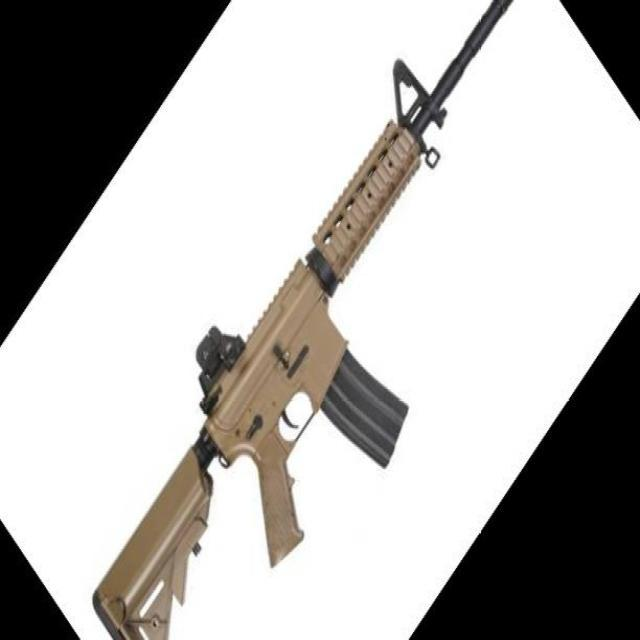weapon: (92, 1, 514, 640)
